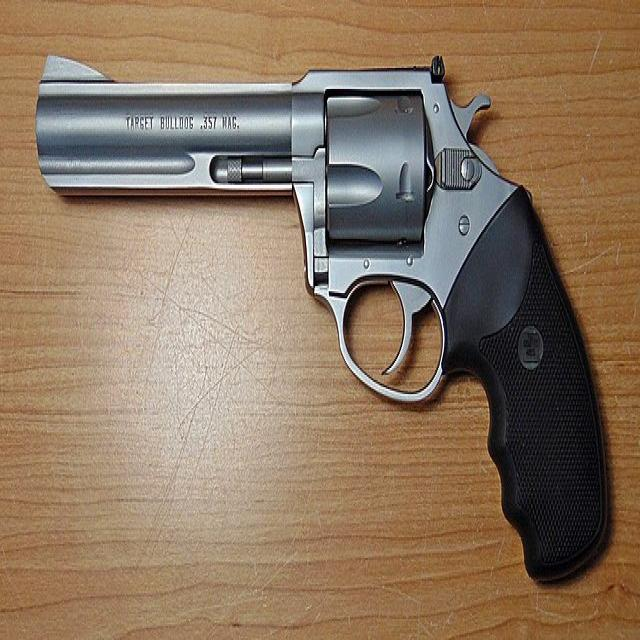Gun: (28, 31, 614, 586)
